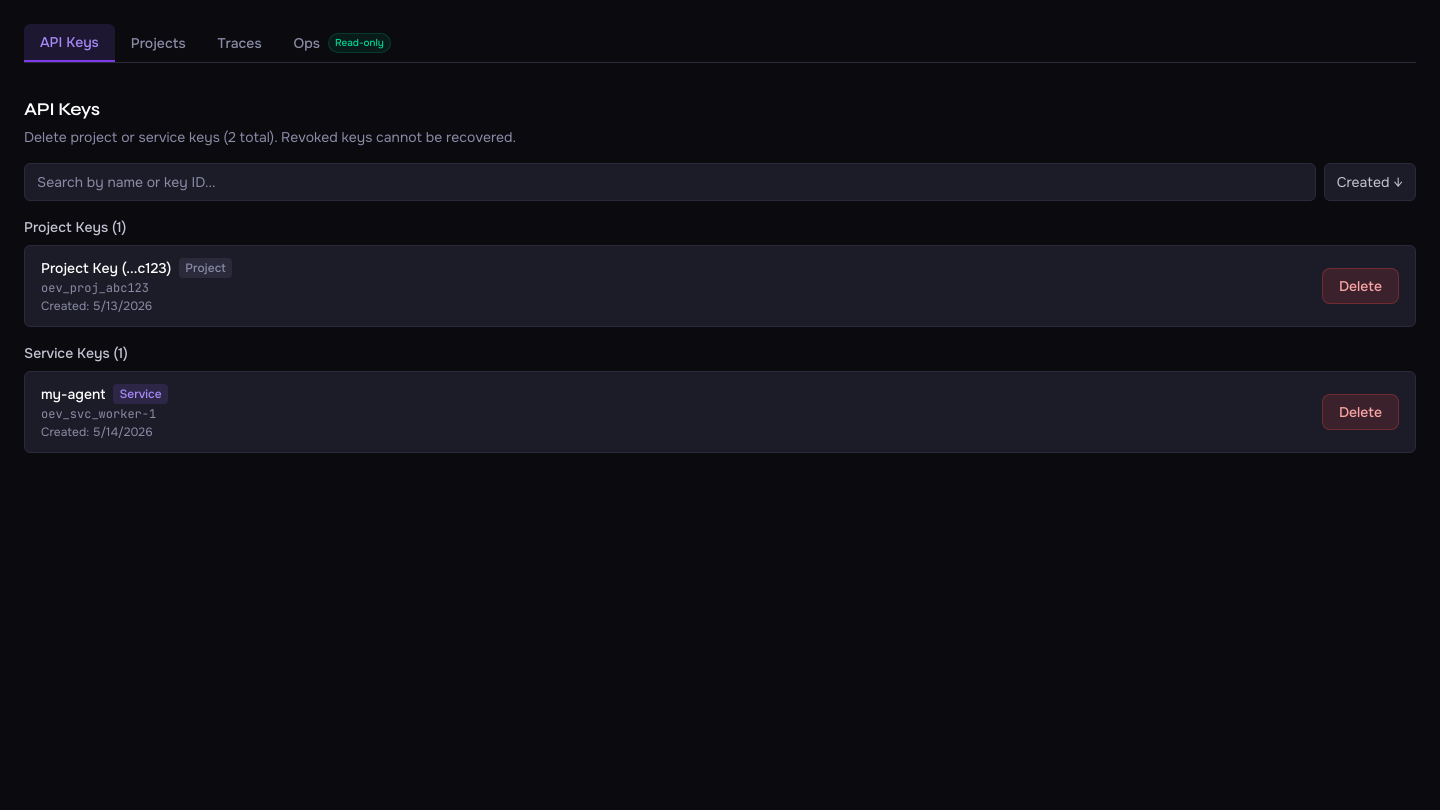
it: AdminPage › deletes a key via DELETE API and refreshes
Expected: the text "oev_proj_abc123" is shown, [41,280,149,296]
Click the button "Delete" in the row of "Project Key (...c123)".
click(1360, 286)  # box [1322,268,1399,304]
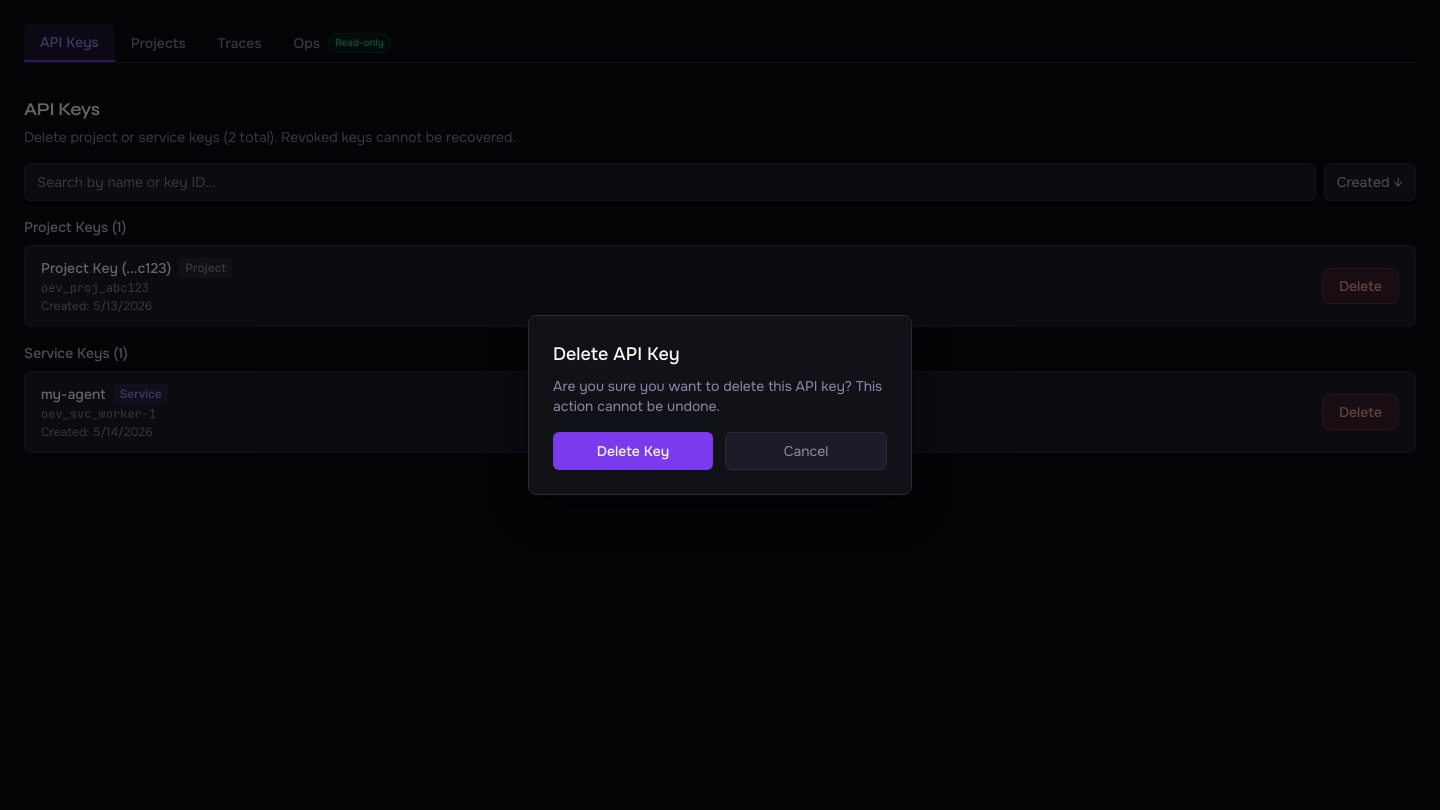
Expected: the heading "Delete API Key" is shown, [553,343,680,365]
Click the button "Delete Key".
click(633, 451)  # box [553,432,713,470]
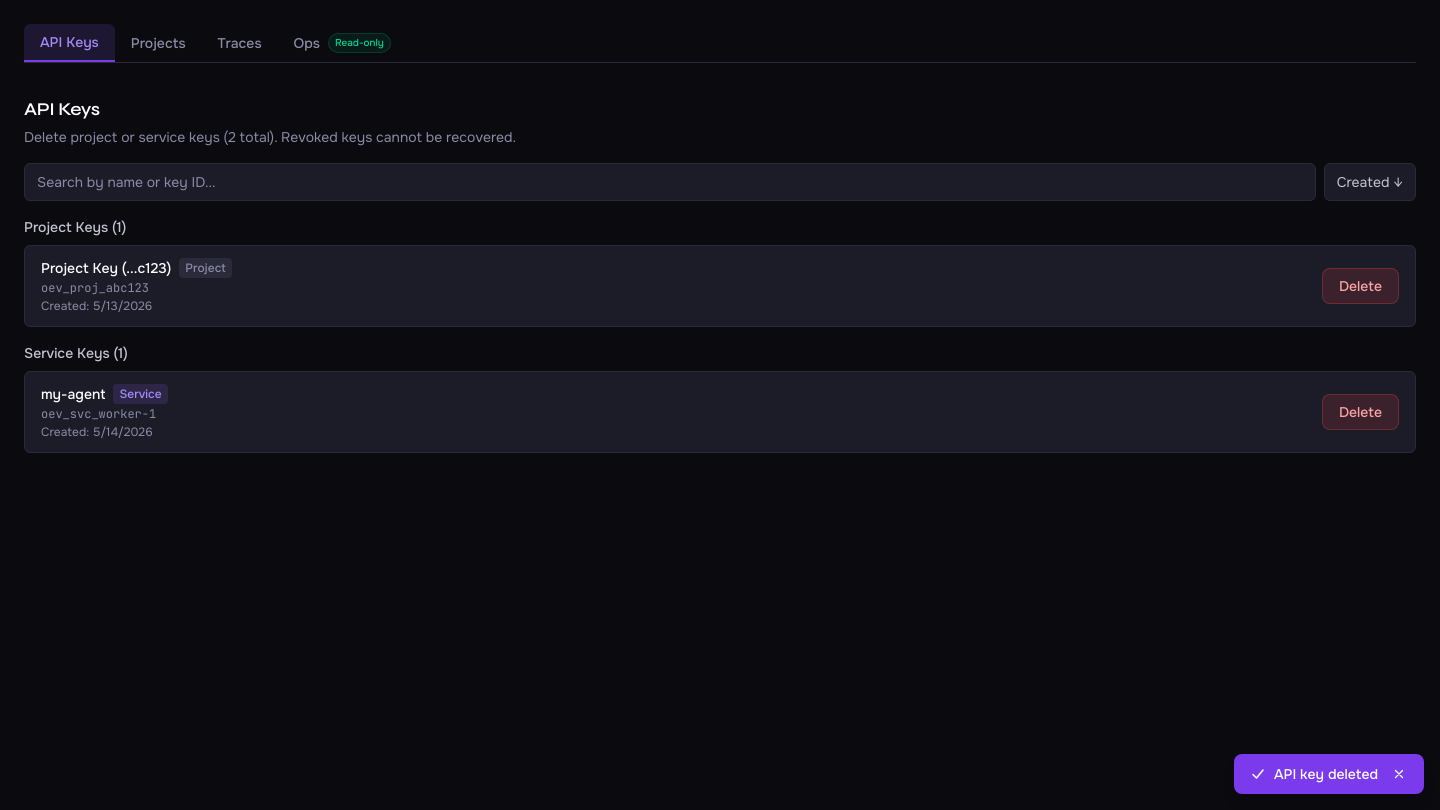
Expected: the text "API key deleted" is shown, [1274,764,1378,784]
